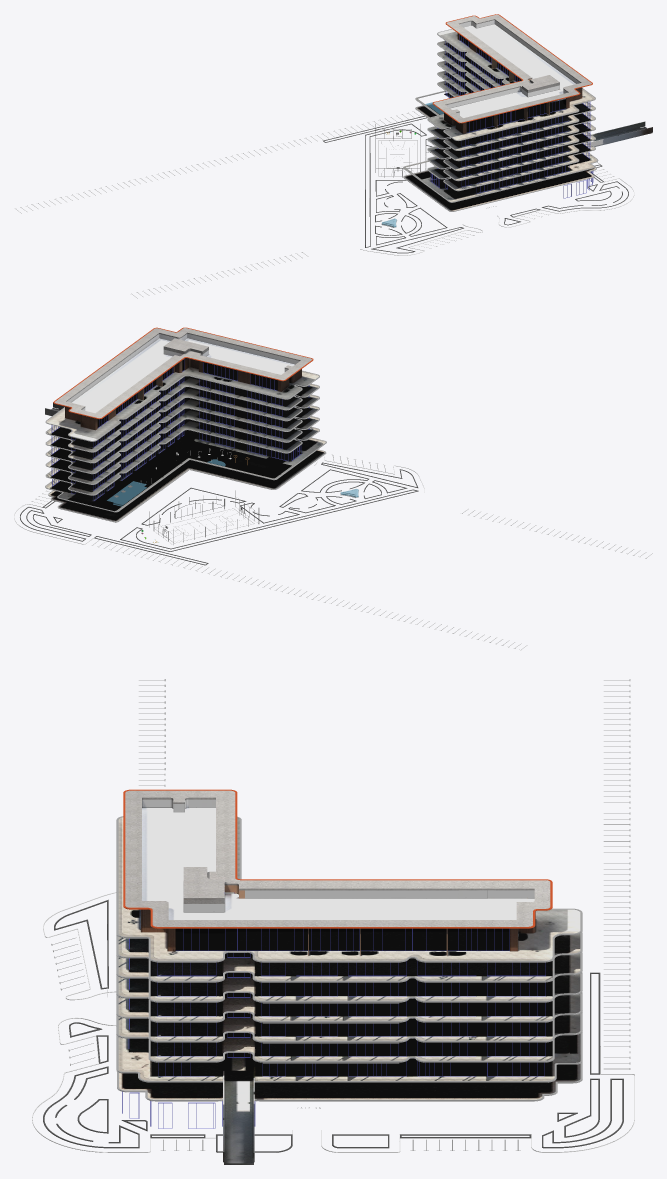
File: MAG_11_build_A_1.glb
3 renders of one model, top to bottom at view 1: azimuth 30°, elevation 25°; view 2: azimuth 150°, elevation 25°; view 3: azimuth 270°, elevation 25°, orthographic. The views are drawn at different scales.
Parts seen in each view (by area): view 1: A_Build_1; view 2: A_Build_1; view 3: A_Build_1.
Part boxes in pixels (bbox=[...]): A_Build_1: bbox=[15, 14, 652, 298]; A_Build_1: bbox=[14, 327, 652, 650]; A_Build_1: bbox=[32, 679, 634, 1164].
Size of the model in its own units: 236 by 43.05 by 115.
Materials: 19 (2 with a texture image).
